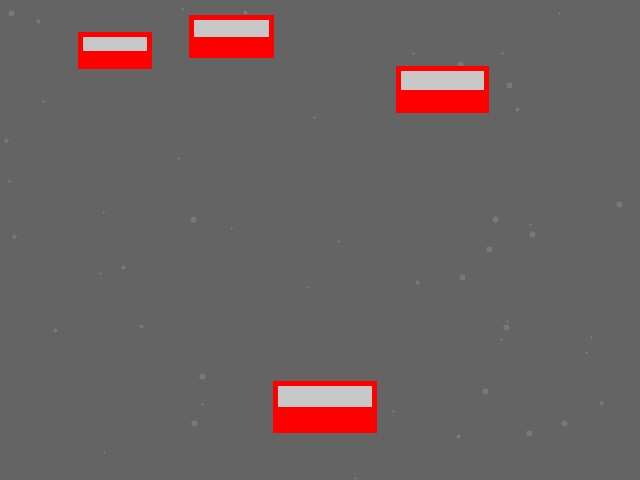car: (273, 381, 376, 432), (396, 66, 488, 112), (189, 15, 273, 57), (78, 32, 151, 68)
